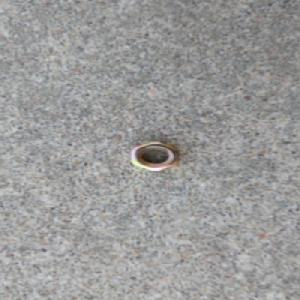Nut: (128, 140, 181, 172)
